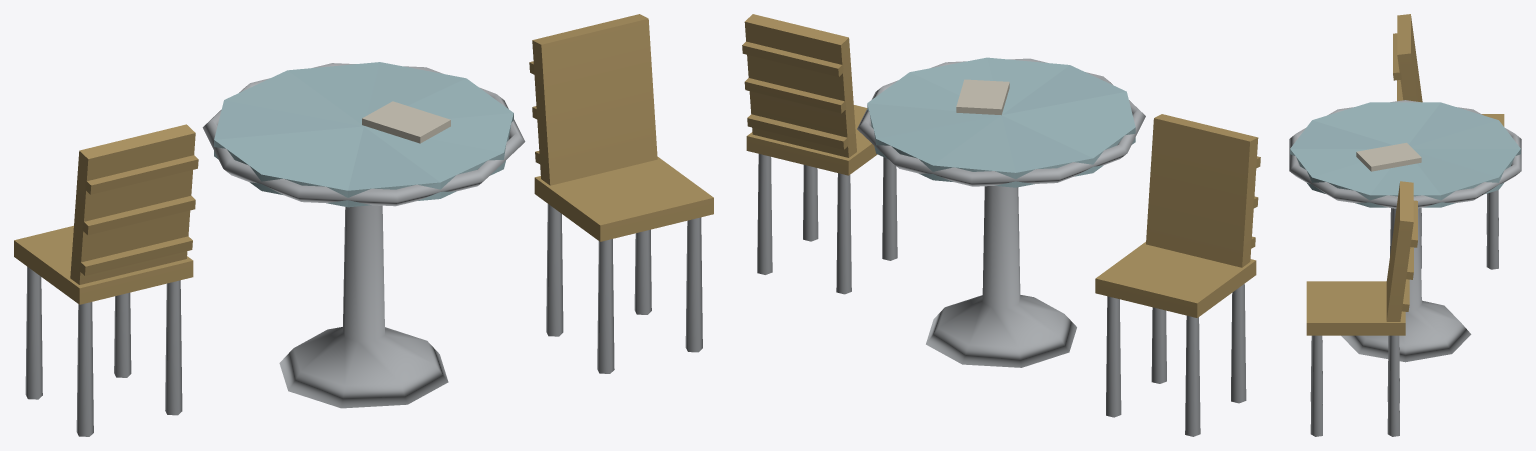
The model's file is cafe_table_chairs.glb.
3 views of the same model, side by side, from view 1: azimuth 30°, elevation 25°; view 2: azimuth 150°, elevation 25°; view 3: azimuth 270°, elevation 25° (orthographic). The views are drawn at different scales.
Visible parts, largest first — view 1: cafe_table_chairs; view 2: cafe_table_chairs; view 3: cafe_table_chairs.
Boxes of the visible parts, <box> form: cafe_table_chairs: <box>14,14,713,436</box>; cafe_table_chairs: <box>742,14,1260,436</box>; cafe_table_chairs: <box>1289,14,1521,436</box>.
Bounding box in the file's own units: 1.8 × 0.8715 × 0.8464.
